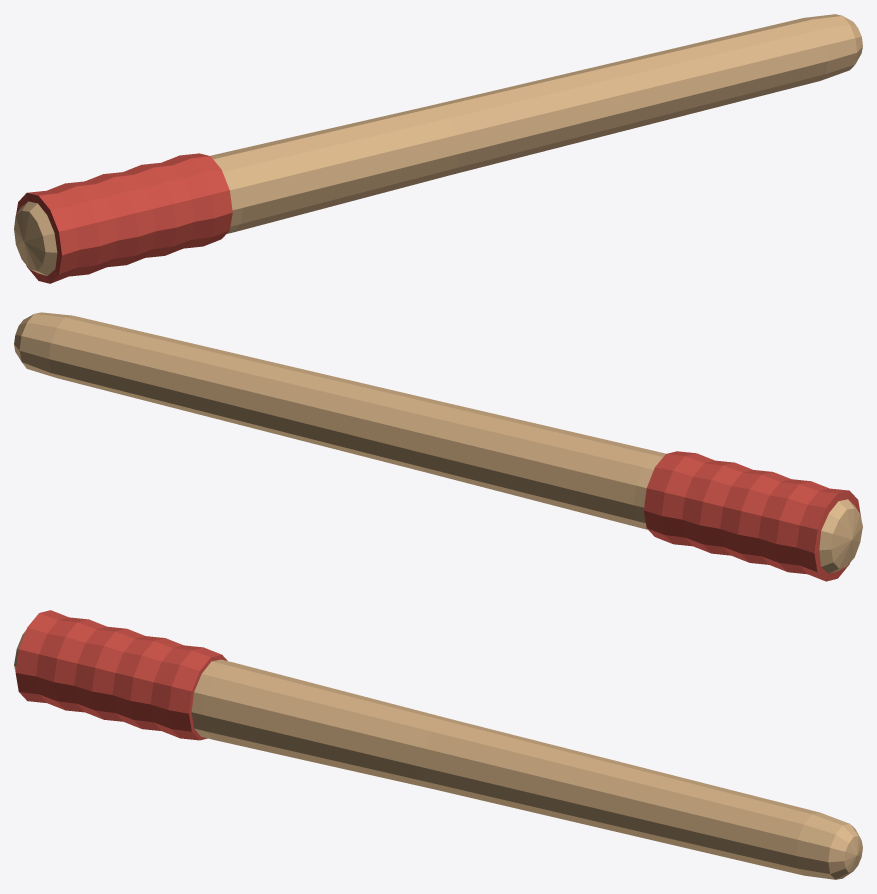
File: danda.glb
3 renders of one model, top to bottom at view 1: azimuth 30°, elevation 25°; view 2: azimuth 150°, elevation 25°; view 3: azimuth 330°, elevation 25°, orthographic.
Parts seen in each view (by area): view 1: DandaStick, DandaGrip; view 2: DandaStick, DandaGrip; view 3: DandaStick, DandaGrip.
Part boxes in pixels (x1=…): DandaStick: x1=14, y1=14, x2=862, y2=275; DandaGrip: x1=16, y1=153, x2=232, y2=283; DandaStick: x1=14, y1=312, x2=862, y2=573; DandaGrip: x1=643, y1=451, x2=861, y2=581; DandaStick: x1=14, y1=630, x2=862, y2=879; DandaGrip: x1=15, y1=610, x2=227, y2=740.
Size of the model in its own units: 4.6 by 0.45 by 0.45.
